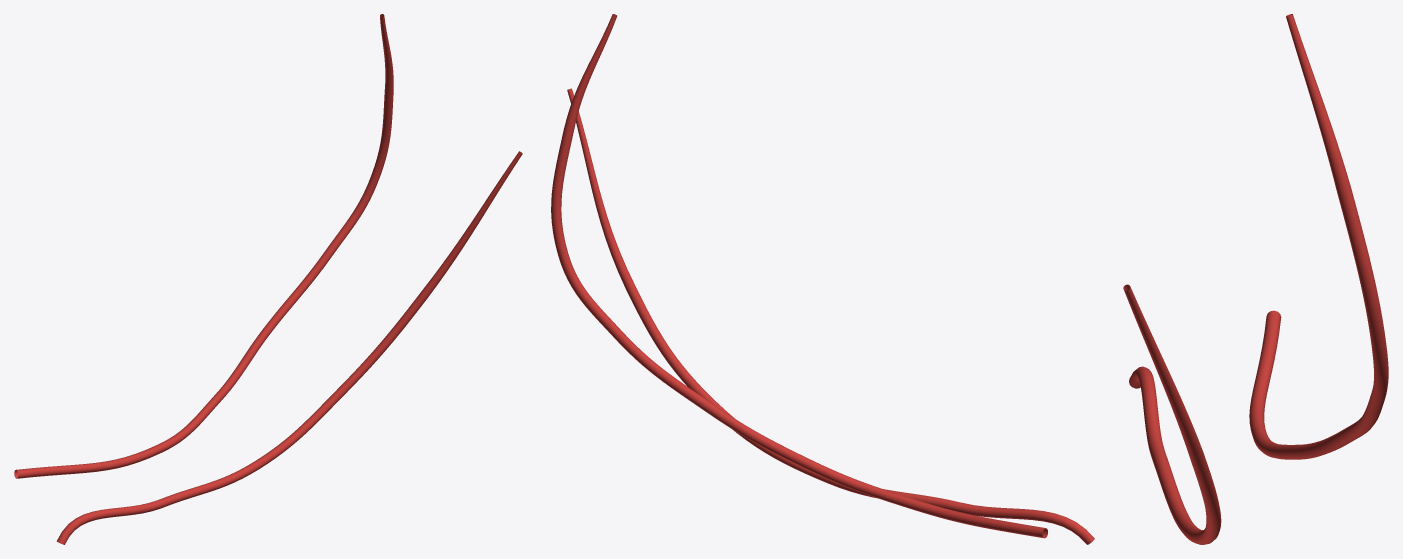
3 renders of one model, left to right at view 1: azimuth 30°, elevation 25°; view 2: azimuth 150°, elevation 25°; view 3: azimuth 270°, elevation 25°, orthographic. The views are drawn at different scales.
Visible parts, largest first — view 1: 左侧基底动脉短旋支; view 2: 左侧基底动脉短旋支; view 3: 左侧基底动脉短旋支.
Boxes of the visible parts, x1,y1,x2,y2 form: 左侧基底动脉短旋支: [14, 14, 522, 544]; 左侧基底动脉短旋支: [551, 14, 1094, 544]; 左侧基底动脉短旋支: [1123, 14, 1388, 544].
Size of the model in its own units: 0.0347 by 0.0292 by 0.0105.
